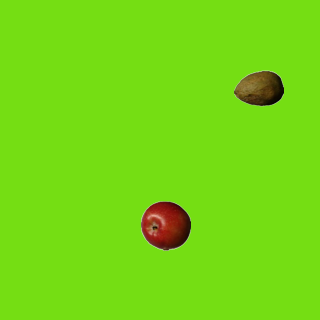Apple Braeburn: (140, 200, 190, 250)
Papaya: (233, 63, 283, 113)
